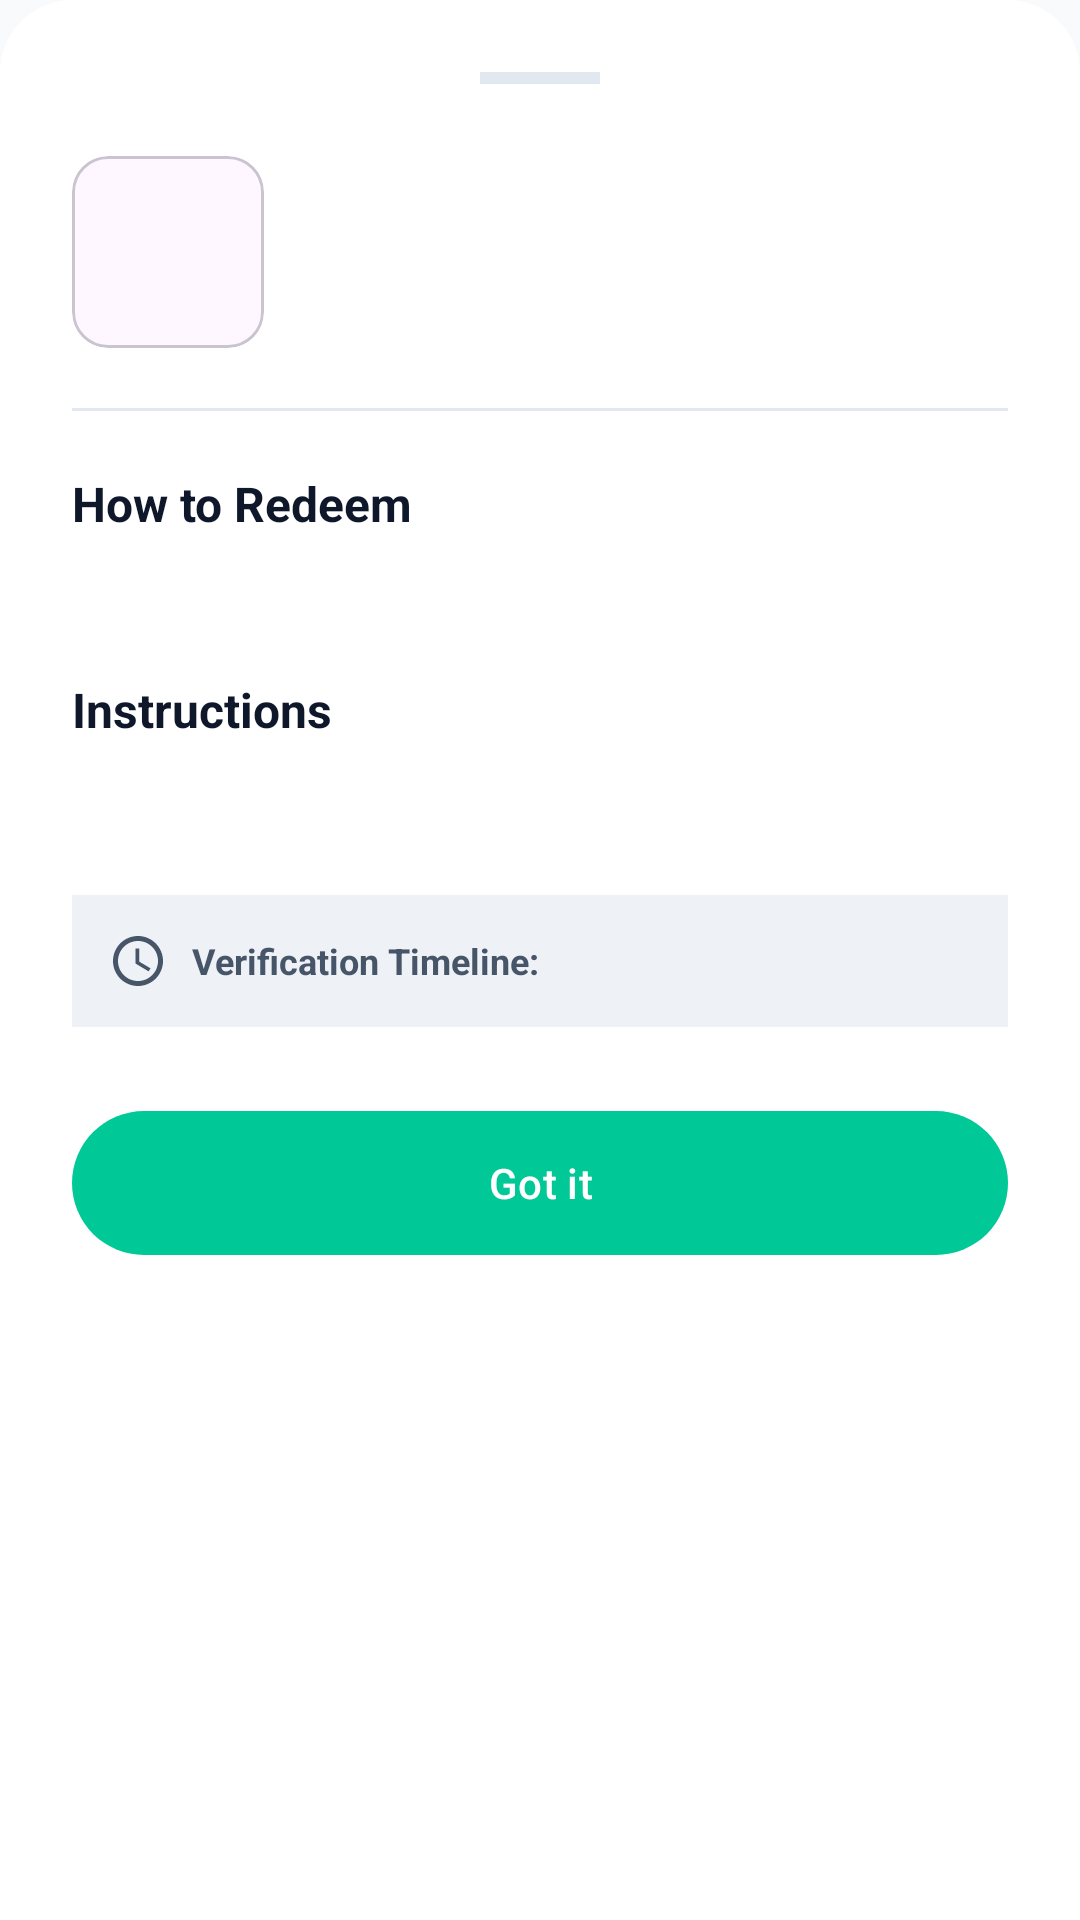

Named icons in this screenshot (1080px x 1920px) and their bounding boxes, (x1, y1, x2, y2):
timer: (113, 936, 163, 986)
